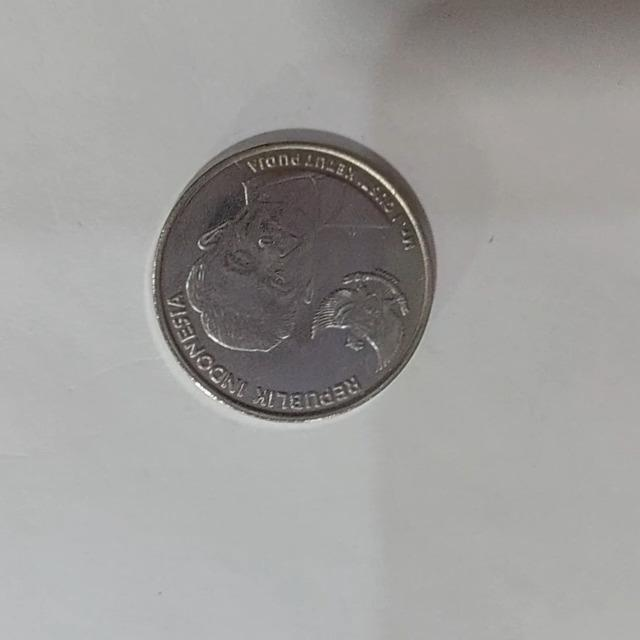Rp100: (149, 128, 437, 423)
